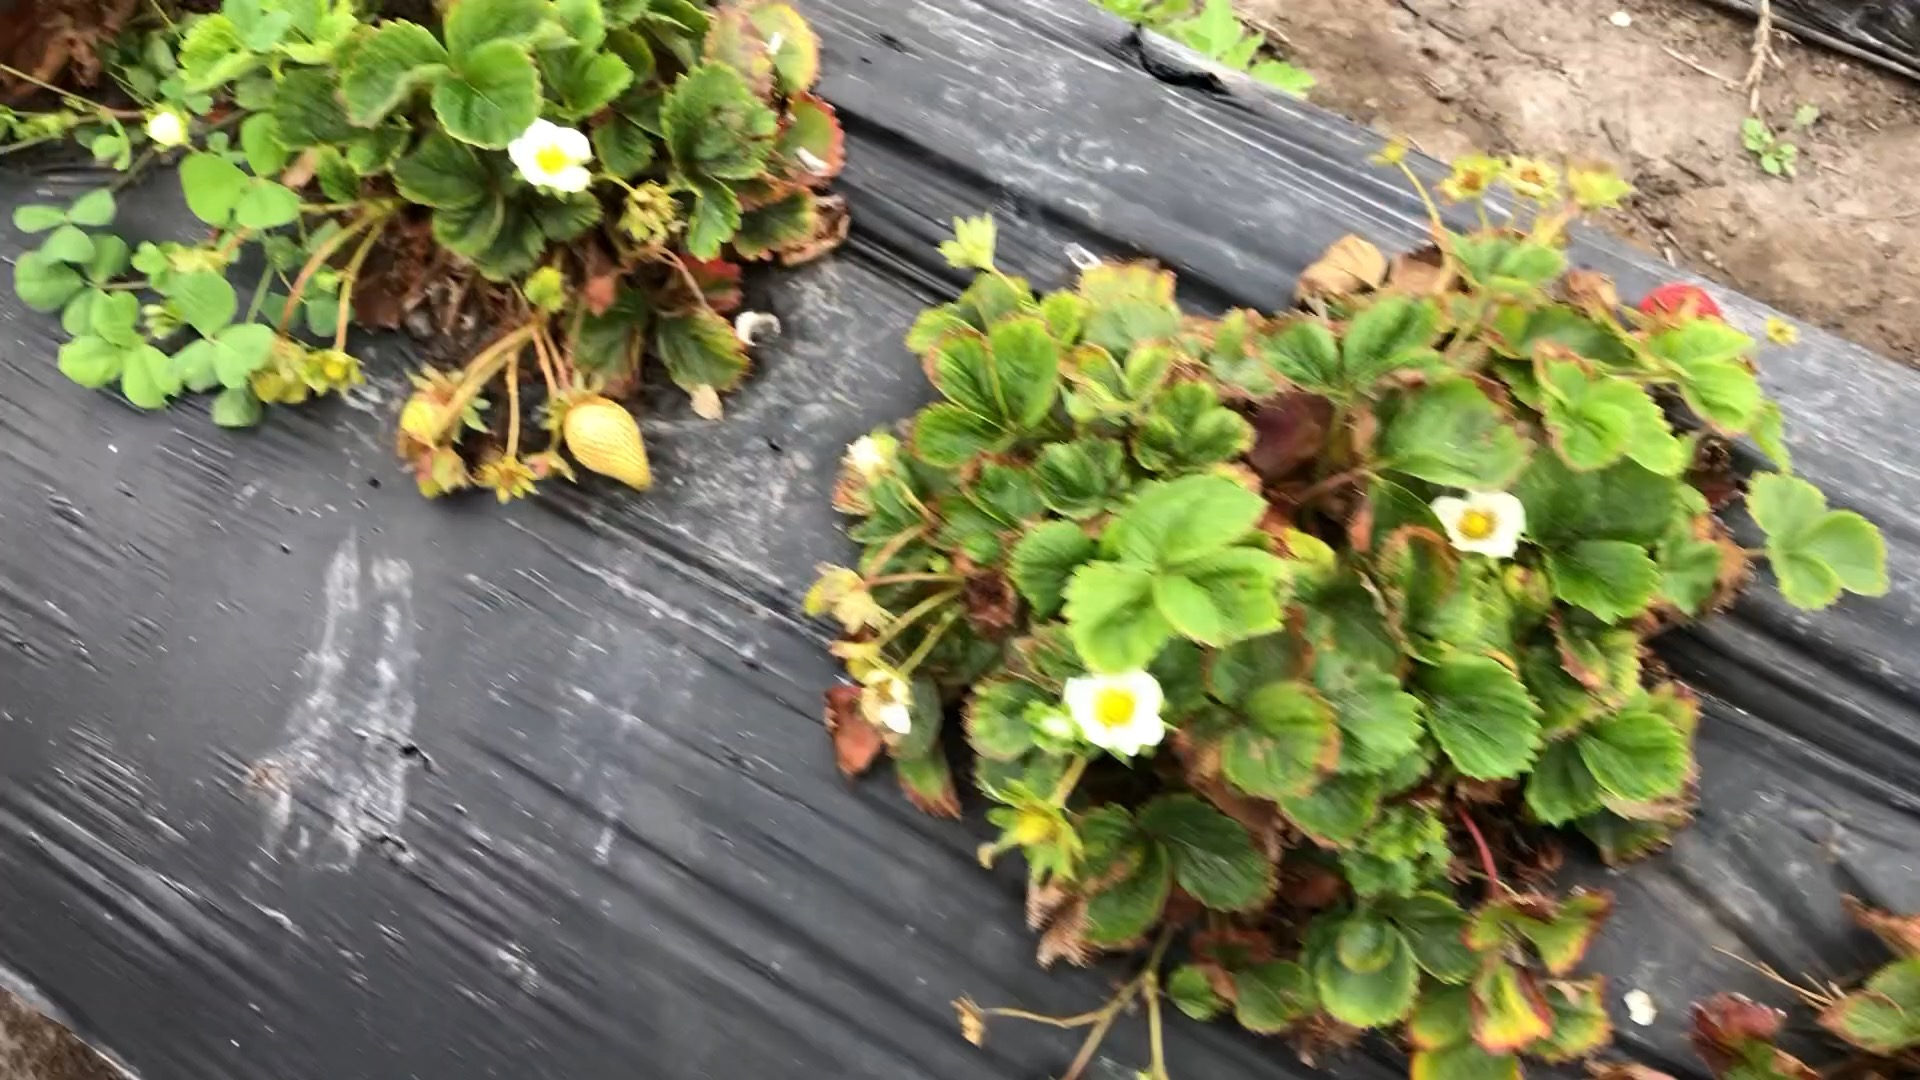unripe_strawberry: (558, 389, 659, 498)
